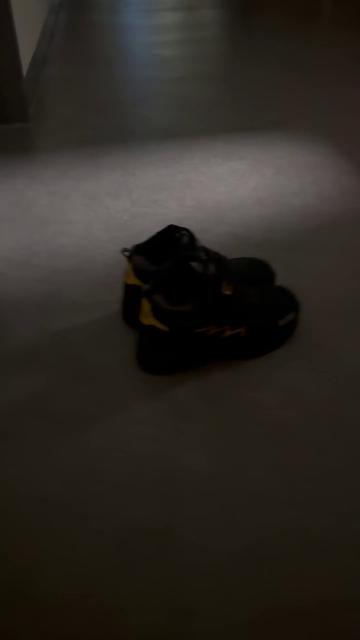shoe_worn: (131, 281, 304, 381), (117, 227, 279, 323)
